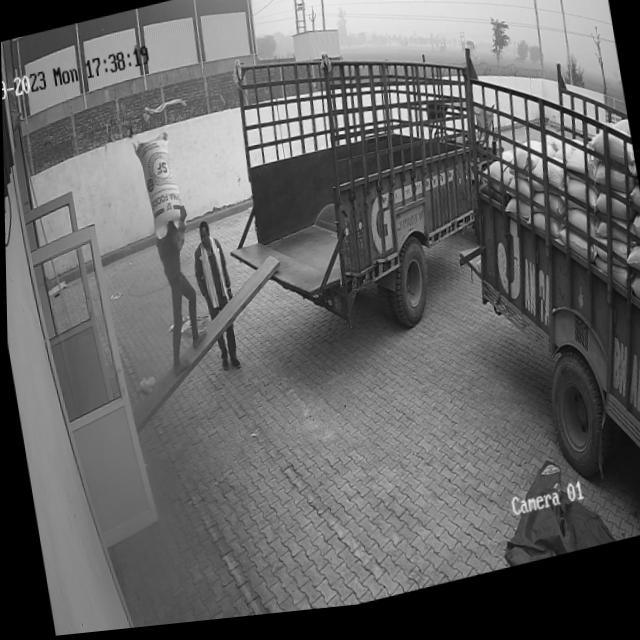sack: (131, 131, 185, 247)
